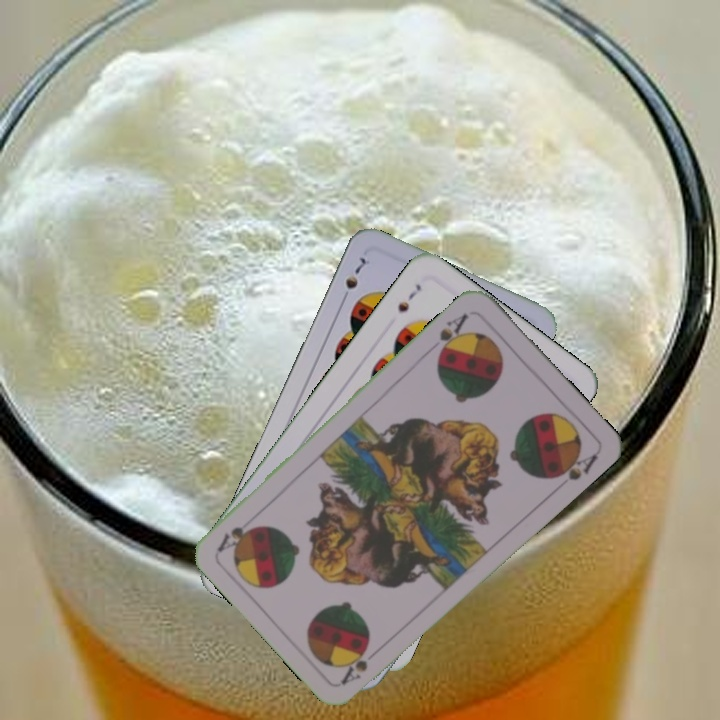S7: (337, 253, 369, 306), (393, 279, 424, 315)
SA: (336, 641, 385, 687), (433, 309, 471, 360)
